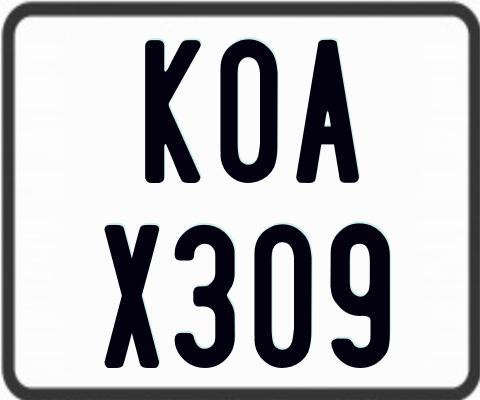0: (251, 222, 315, 366), (218, 38, 278, 184)
3: (175, 222, 237, 370)
9: (327, 223, 392, 372)
A: (294, 38, 362, 182)
K: (143, 38, 201, 182)
X: (102, 224, 160, 371)
